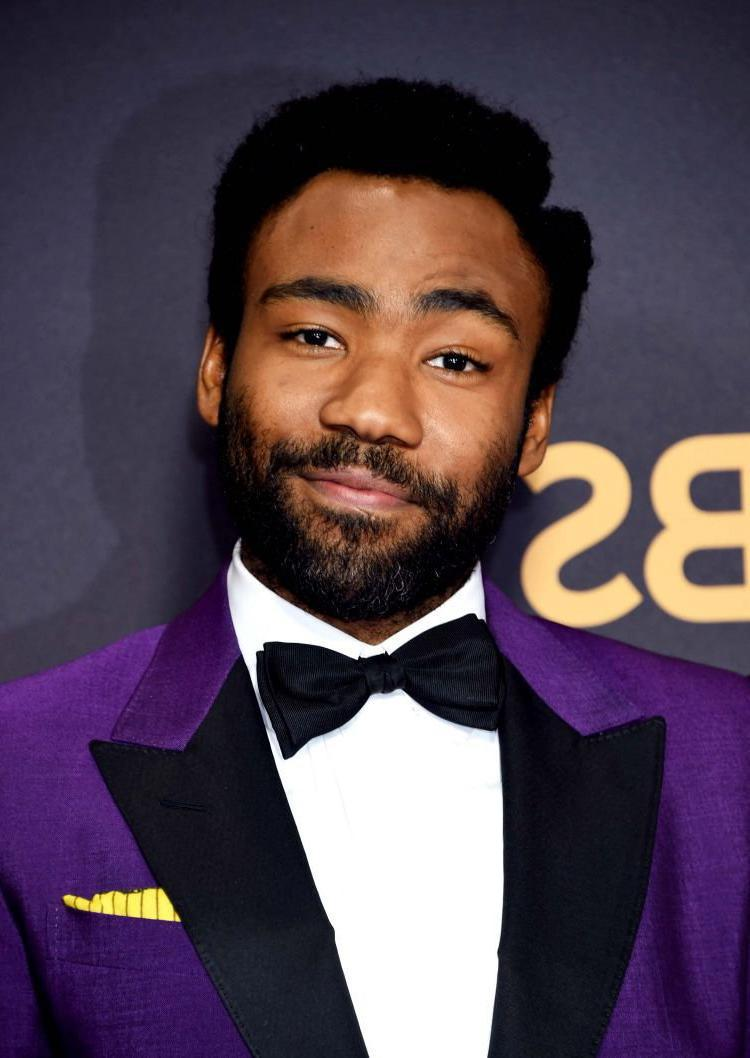Sober: (256, 181, 530, 573)
